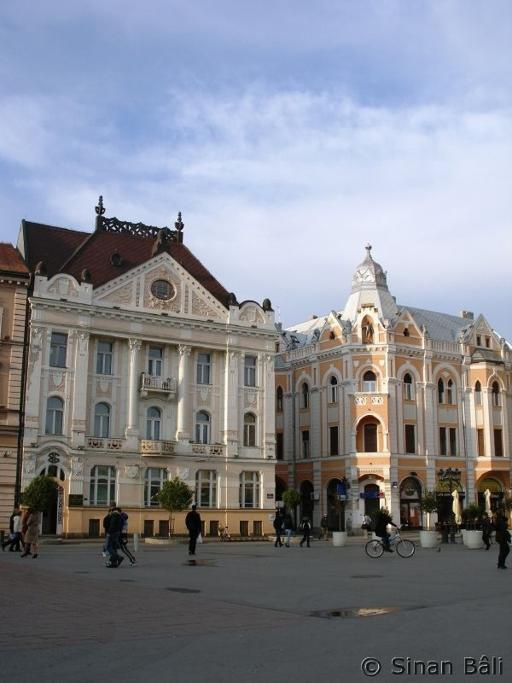non-vehicle: (363, 523, 415, 558), (216, 522, 232, 543)
